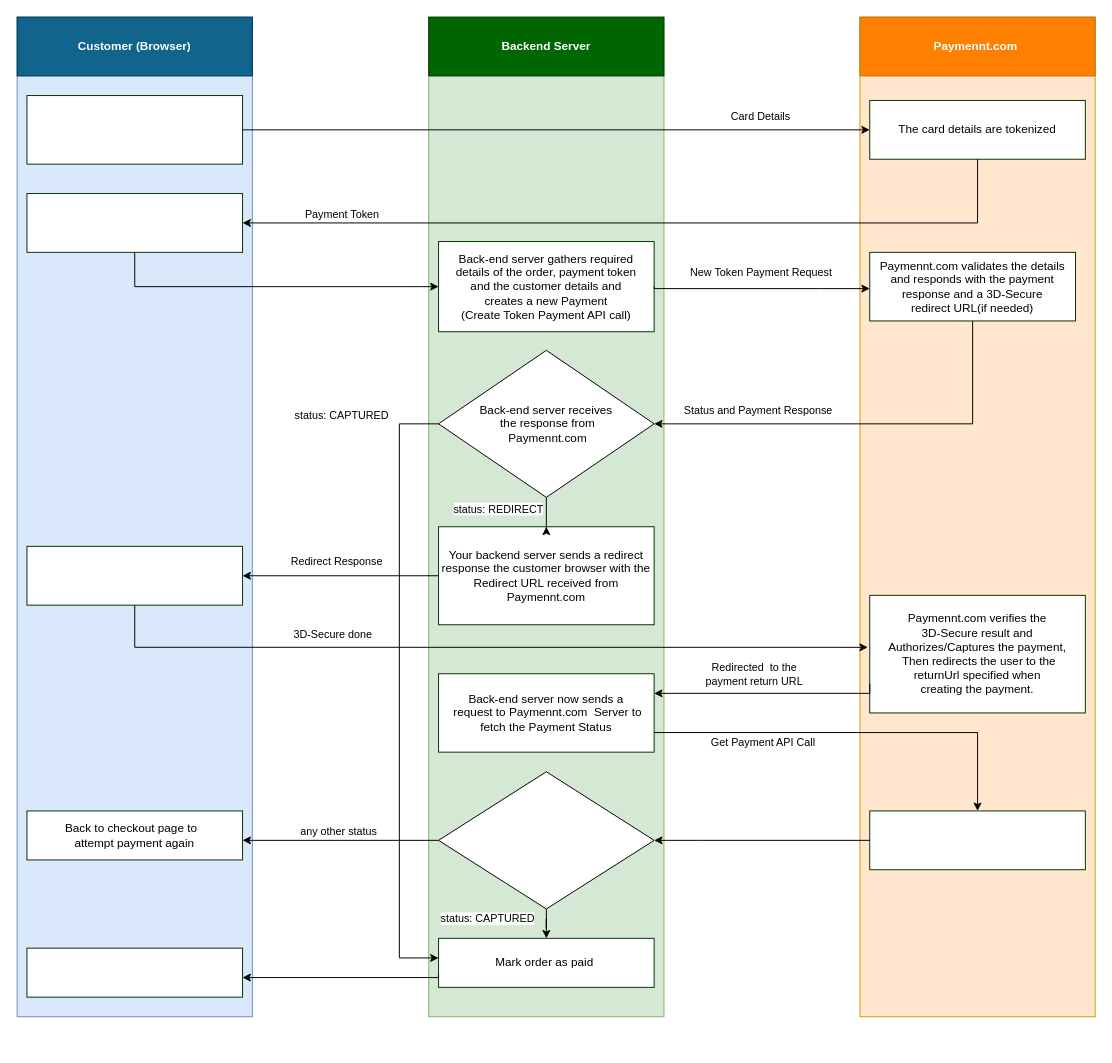
Some shapes in this 1112 by 1063 pixel diagram are drawn without their labels. Each missing label, with the box of its shape:
Back-end server checks for retrieved payment status: (438, 771, 654, 909)
Confirmation Page: (26, 947, 243, 997)
Customer Browser redirects to the 3D-Secure page: (26, 545, 243, 605)
Customer enters card details: (26, 95, 243, 164)
Return payment details including payment status: (869, 810, 1085, 870)
You send the received card token to your backend server: (26, 193, 243, 252)
